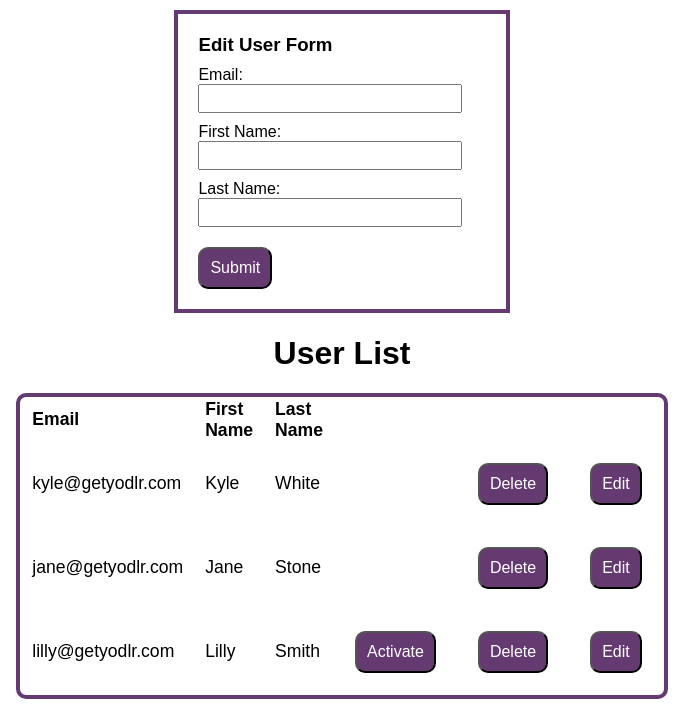
Test: deletes a user
The image size is (685, 716).
What coordinates should you click on to do the following:
click the button with test id "delete1"
I would click on:
 (513, 484)
Its box is [478,463,548,505].
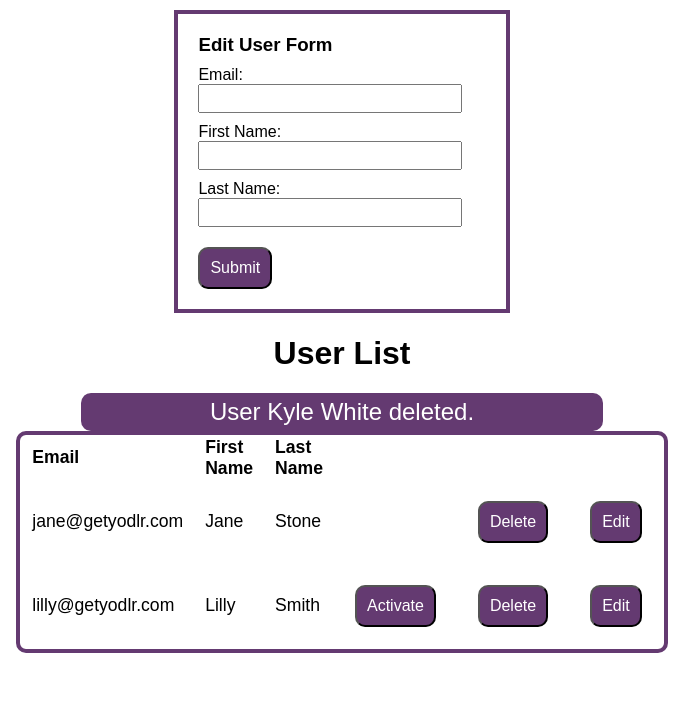
Now the text "User Kyle White deleted." is shown, box [81,393,603,431]
